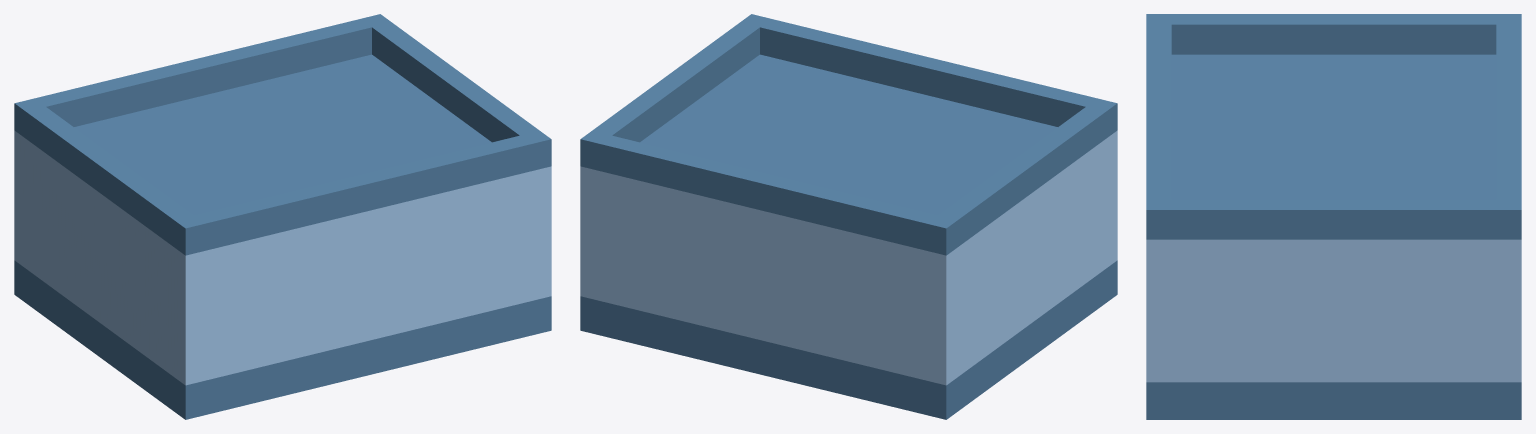
Rendered from Map-Shop-Lv1-B.fbx.
3 renders of one model, left to right at view 1: azimuth 30°, elevation 25°; view 2: azimuth 150°, elevation 25°; view 3: azimuth 270°, elevation 25°, orthographic. The views are drawn at different scales.
Parts seen in each view (by area): view 1: Map-Shop-Lv1-B; view 2: Map-Shop-Lv1-B; view 3: Map-Shop-Lv1-B.
Part boxes in pixels (box(x1,y1,x2,y2)): Map-Shop-Lv1-B: box(14, 14, 551, 419); Map-Shop-Lv1-B: box(580, 14, 1117, 419); Map-Shop-Lv1-B: box(1146, 14, 1521, 419).
Bounding box in the file's own units: 2 × 1 × 1.62.
